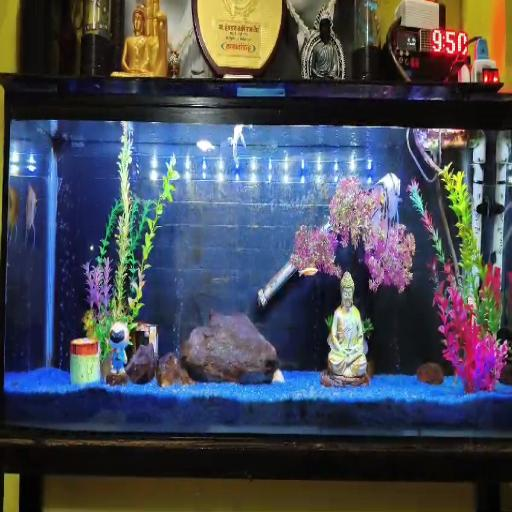Fish: (372, 173, 401, 246), (228, 125, 252, 167), (25, 186, 38, 246), (8, 187, 19, 243), (197, 140, 214, 153), (299, 267, 318, 276)
